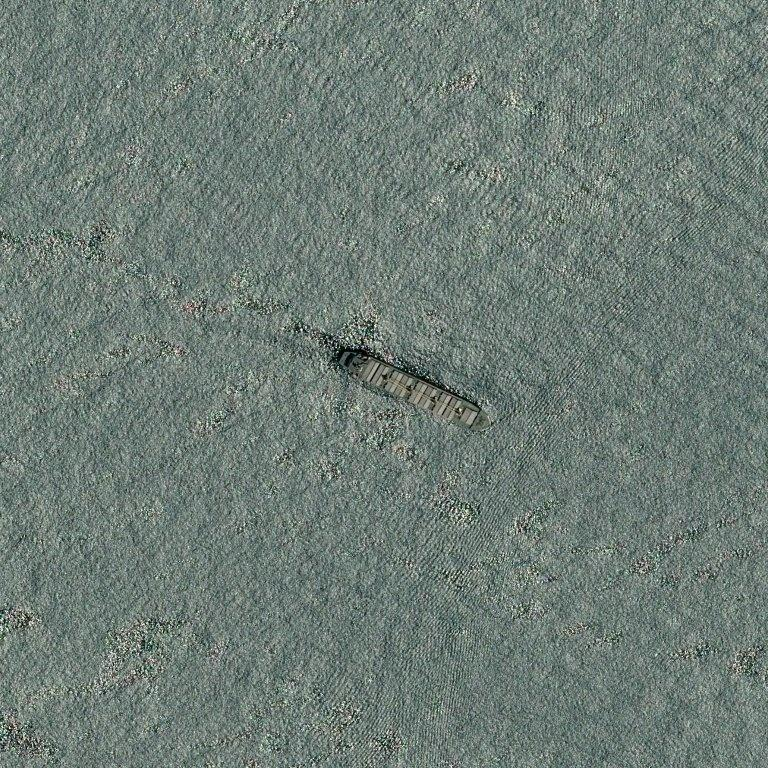ship: (0, 0, 116, 54)
